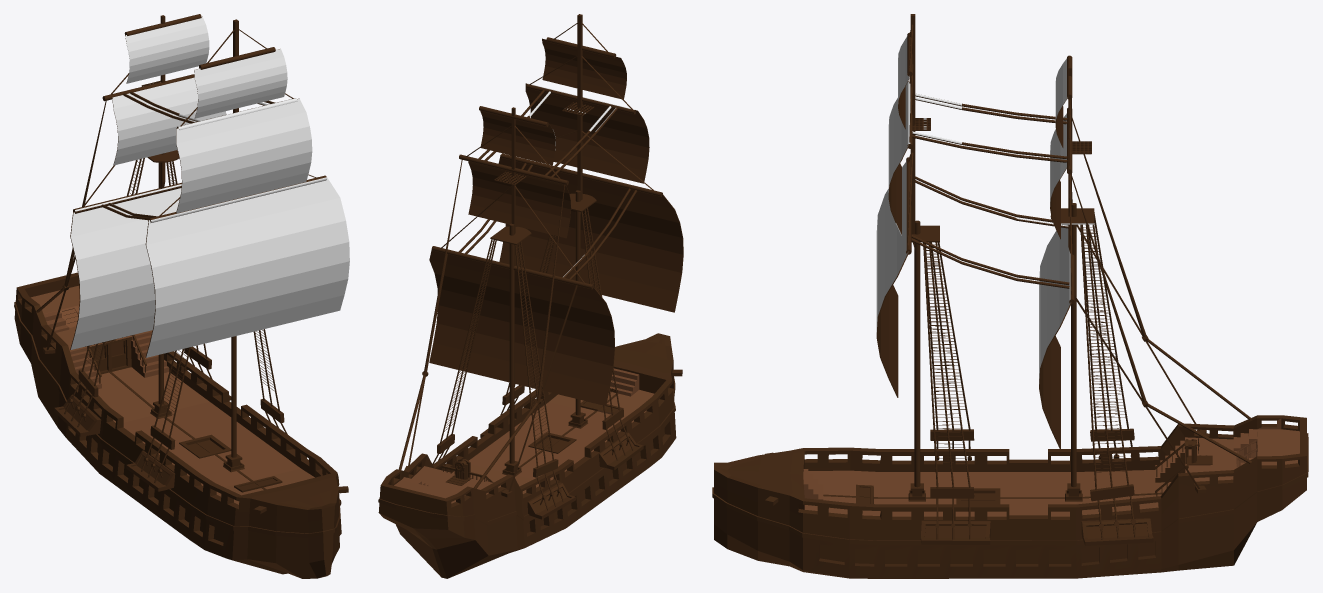
File: Pirate_Ship.fbx
The picture shows the model from 3 angles, left to right: view 1: azimuth 30°, elevation 25°; view 2: azimuth 150°, elevation 25°; view 3: azimuth 270°, elevation 25°; orthographic projection. The views are drawn at different scales.
Visible parts, largest first — view 1: Ship_3; view 2: Ship_3; view 3: Ship_3.
Part boxes in pixels (x1,y1,x2,y2): Ship_3: [14, 14, 349, 578]; Ship_3: [378, 14, 683, 578]; Ship_3: [712, 14, 1308, 578].
Size of the model in its own units: 1436 by 3692 by 3548.
